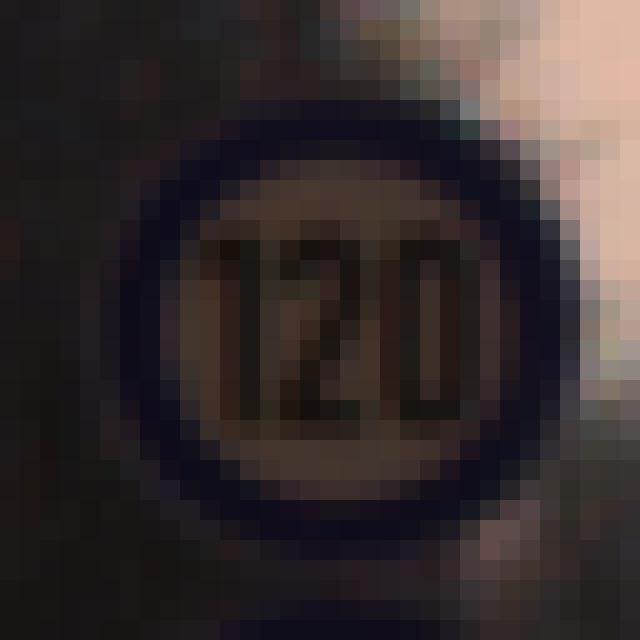SPEED LIMIT 120: (109, 113, 586, 540)
